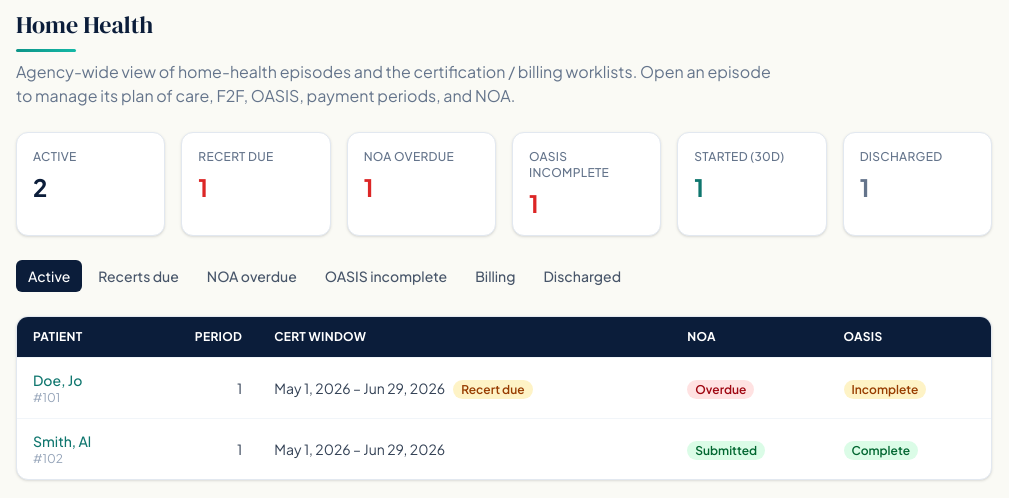
HomeHealthDashboardPage › NOA-overdue worklist filters to overdue episodes only
Expected: the row with test id "hh-row-101" is shown, top-left (17, 358), bottom-right (991, 418)
Click the tab with test id "hh-tab-noa" at (252, 276), box top-left (195, 260), bottom-right (309, 292)
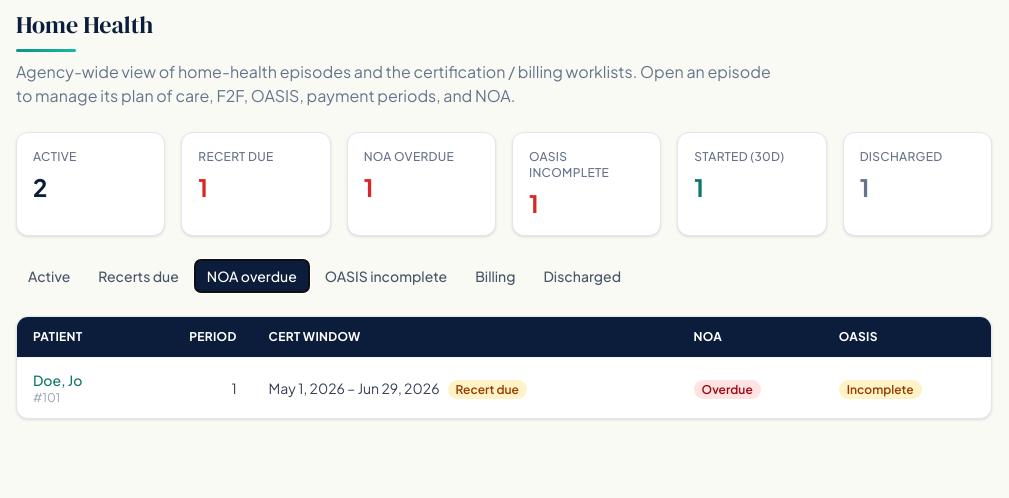
Expected: the row with test id "hh-row-101" is shown, top-left (17, 358), bottom-right (991, 418)
Now the row with test id "hh-row-102" is gone
